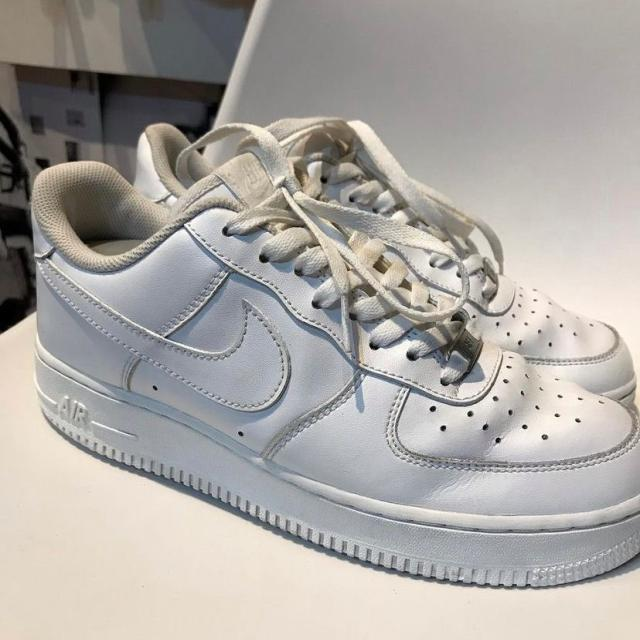nike fake jordan 1: (30, 159, 640, 589), (136, 122, 640, 416)
